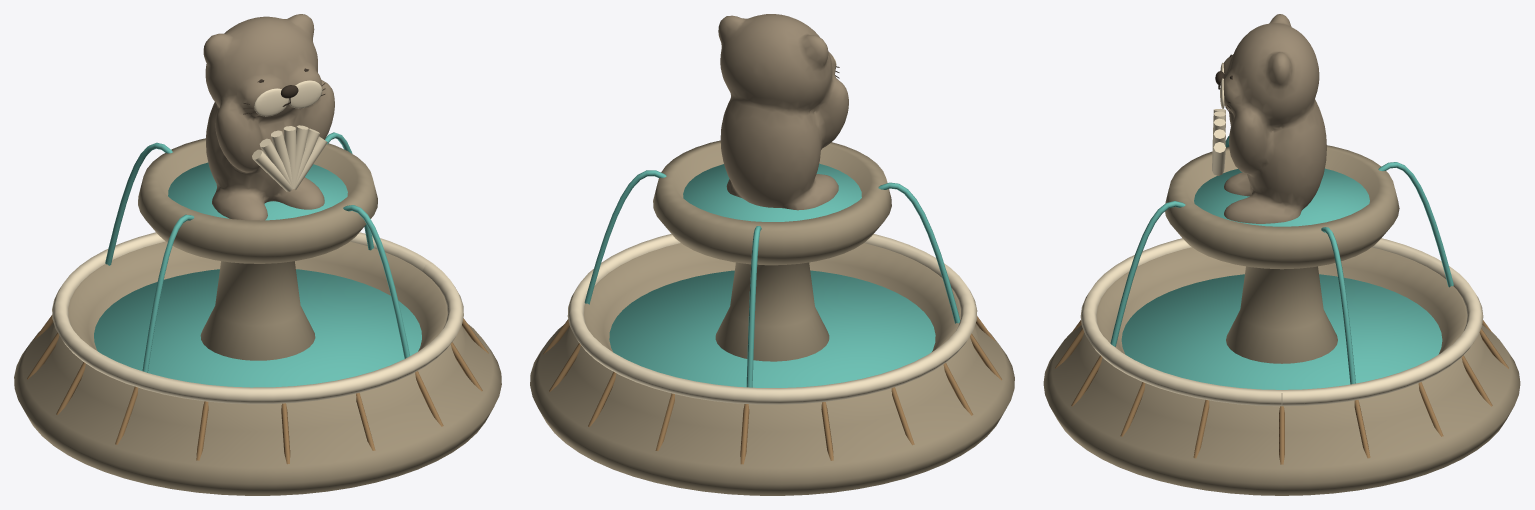
Rendered from otter_fountain_atelier.glb.
3 renders of one model, left to right at view 1: azimuth 30°, elevation 25°; view 2: azimuth 150°, elevation 25°; view 3: azimuth 270°, elevation 25°, orthographic. The views are drawn at different scales.
Parts seen in each view (by area): view 1: otter_fountain_atelier__TaggedPainted_Fountain_Matte, otter_fountain_atelier__Painted_Fountain_Glaze; view 2: otter_fountain_atelier__TaggedPainted_Fountain_Matte, otter_fountain_atelier__Painted_Fountain_Glaze; view 3: otter_fountain_atelier__TaggedPainted_Fountain_Matte, otter_fountain_atelier__Painted_Fountain_Glaze.
Boxes of the visible parts, x1,y1,x2,y2 form: otter_fountain_atelier__TaggedPainted_Fountain_Matte: [14, 14, 501, 495]; otter_fountain_atelier__Painted_Fountain_Glaze: [52, 80, 463, 404]; otter_fountain_atelier__TaggedPainted_Fountain_Matte: [530, 14, 1014, 495]; otter_fountain_atelier__Painted_Fountain_Glaze: [567, 56, 977, 404]; otter_fountain_atelier__TaggedPainted_Fountain_Matte: [1043, 14, 1520, 495]; otter_fountain_atelier__Painted_Fountain_Glaze: [1080, 62, 1483, 406].
Bounding box in the file's own units: 2.84 × 2.43 × 2.84.
